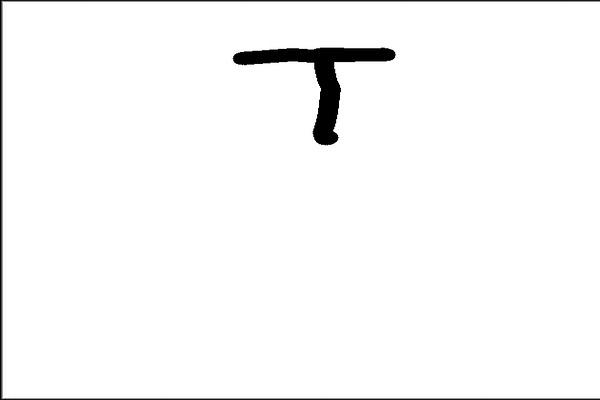T: (223, 37, 398, 149)
